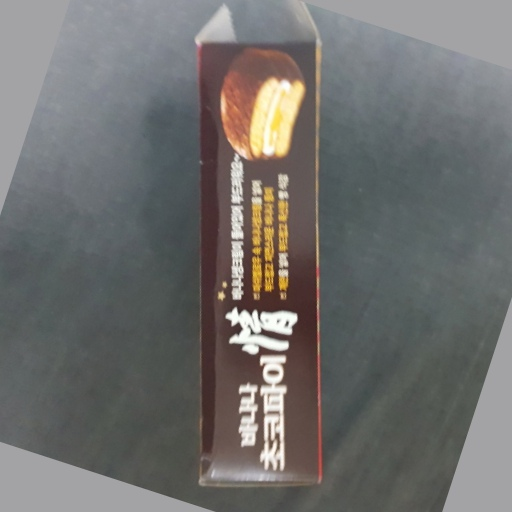Paper_0: (194, 1, 327, 495)
